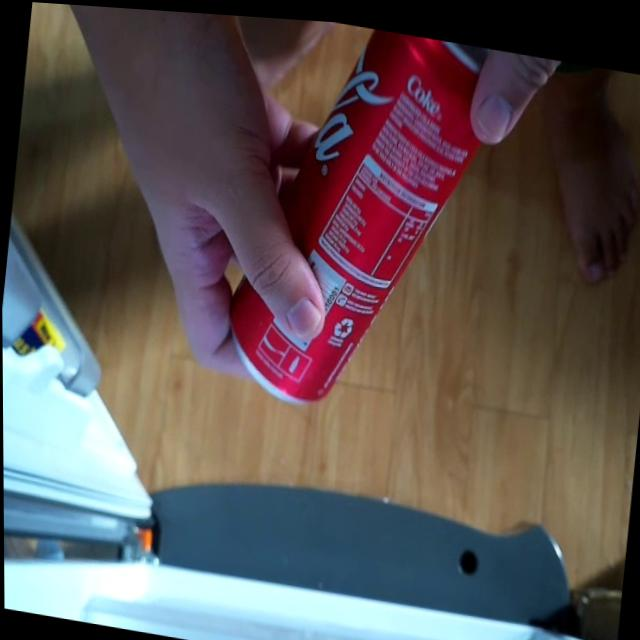coke: (212, 11, 524, 432)
